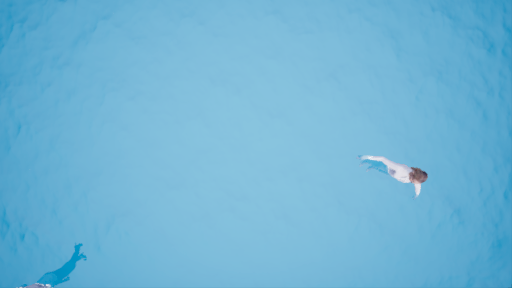person: (357, 156, 437, 198)
